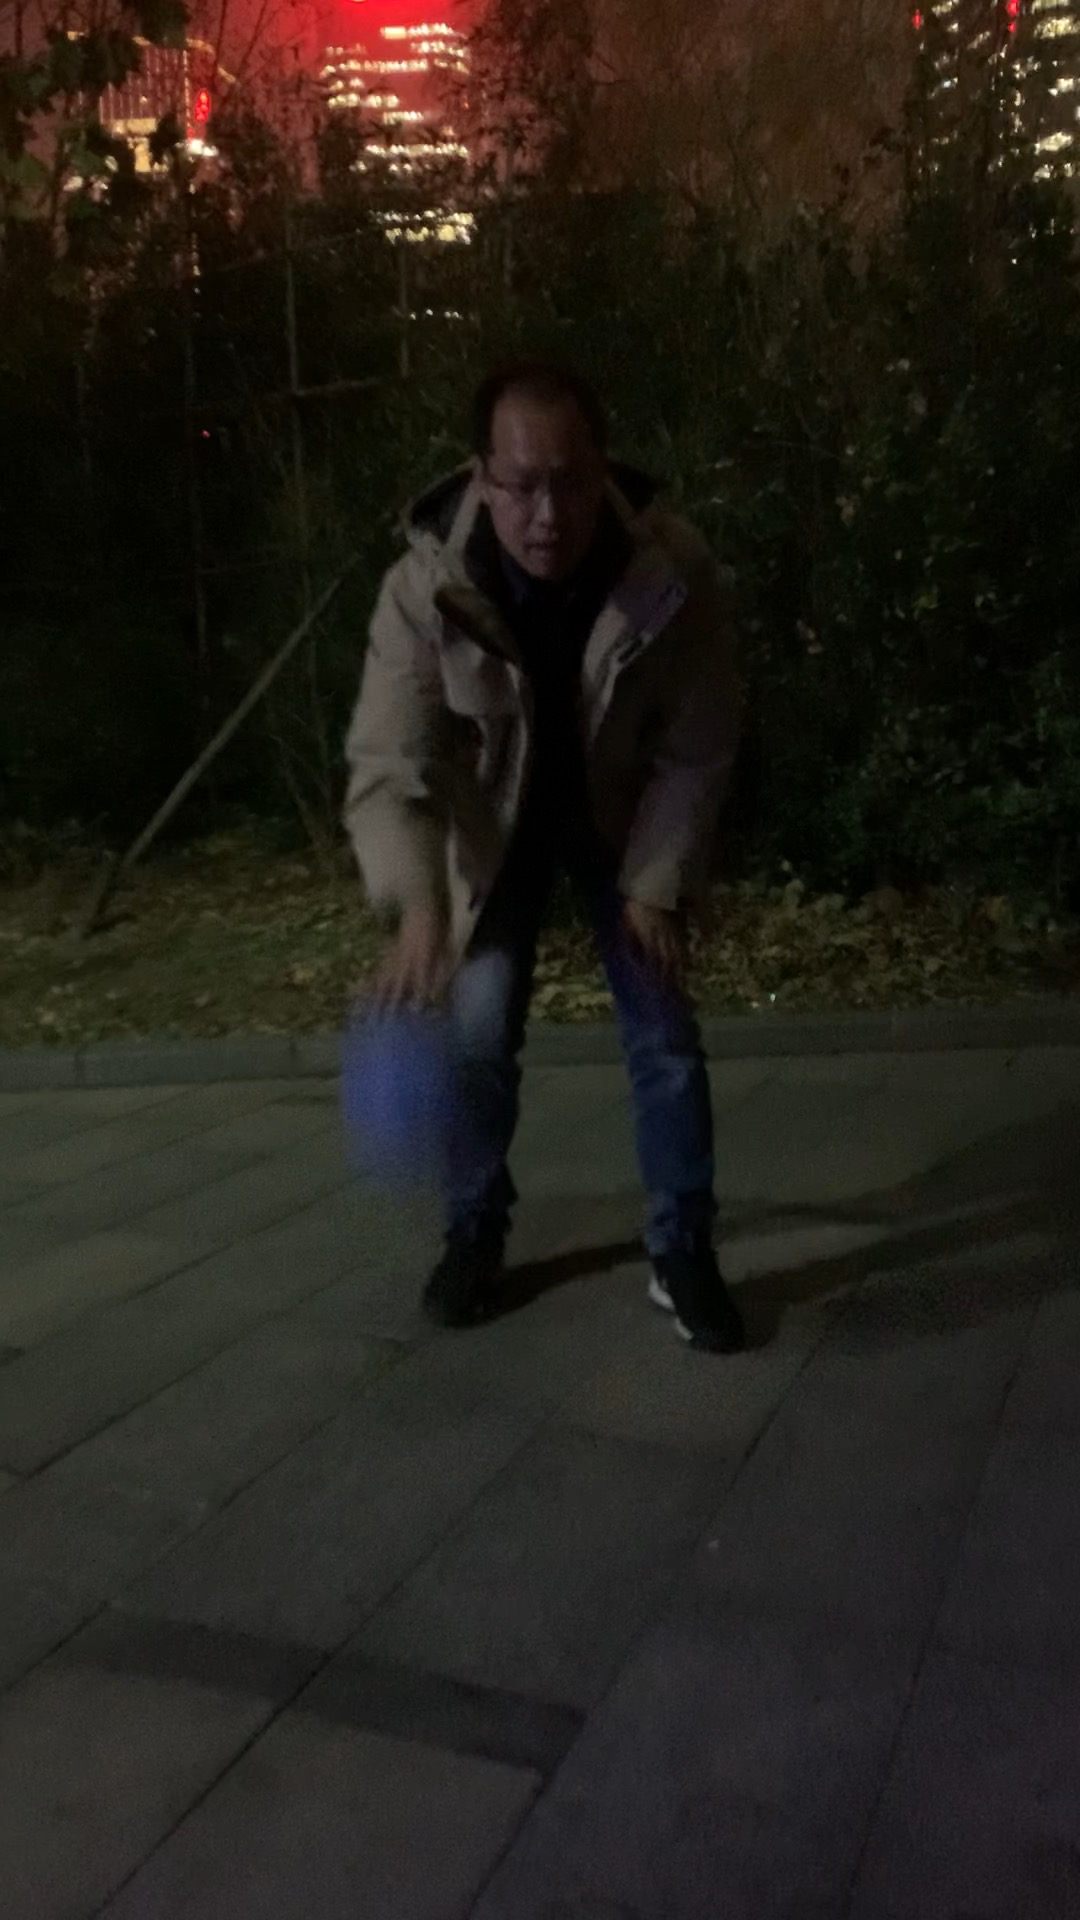ball: (338, 1011, 522, 1189)
